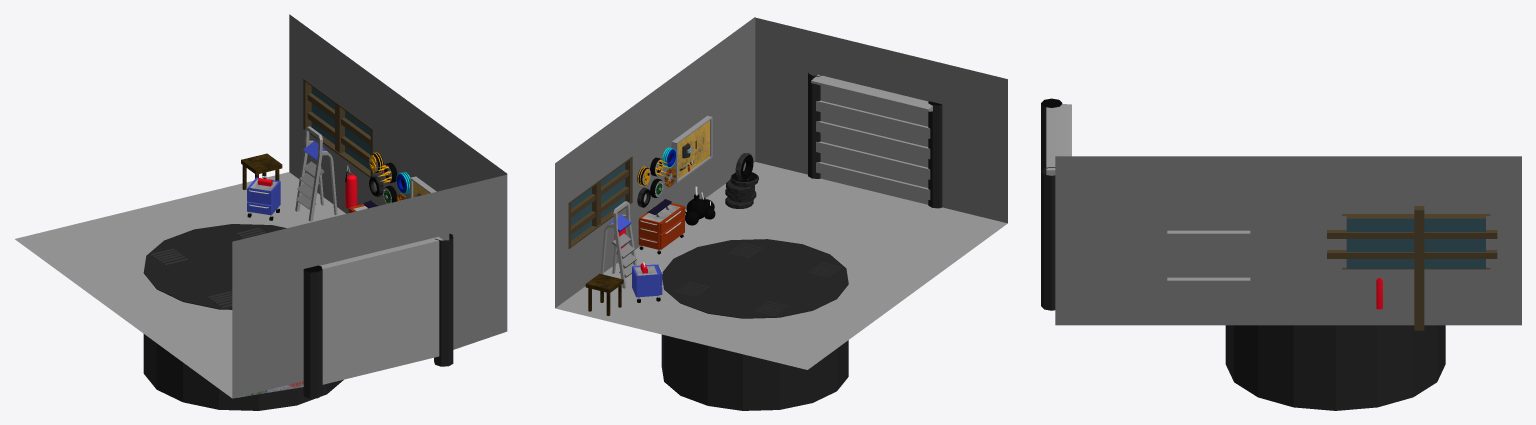
The model's file is MecanicoInterior.fbx.
3 views of the same model, side by side, from view 1: azimuth 30°, elevation 25°; view 2: azimuth 150°, elevation 25°; view 3: azimuth 270°, elevation 25° (orthographic). The views are drawn at different scales.
Visible parts, largest first — view 1: Interior; view 2: Interior; view 3: Interior.
Part boxes in pixels (x1,y1,x2,y2): Interior: [15, 14, 507, 410]; Interior: [555, 17, 1007, 410]; Interior: [1041, 98, 1521, 410].
Bounding box in the file's own units: 753 × 644 × 1015.
